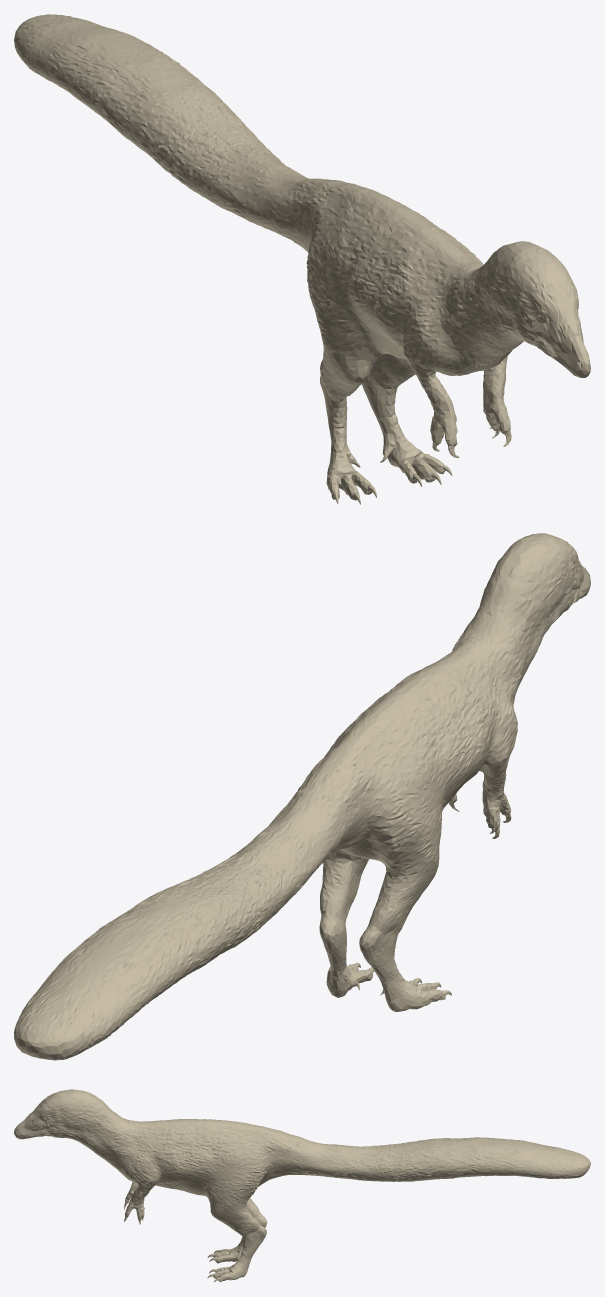
File: sinosauropteryx.glb
3 views of the same model, one above another, from view 1: azimuth 30°, elevation 25°; view 2: azimuth 150°, elevation 25°; view 3: azimuth 270°, elevation 25° (orthographic). The views are drawn at different scales.
Visible parts, largest first — view 1: model; view 2: model; view 3: model.
Part boxes in pixels (x1,y1,x2,y2): model: (14,14,590,504); model: (14,533,590,1060); model: (14,1089,590,1282).
Size of the model in its own units: 17.98 by 51.5 by 151.
